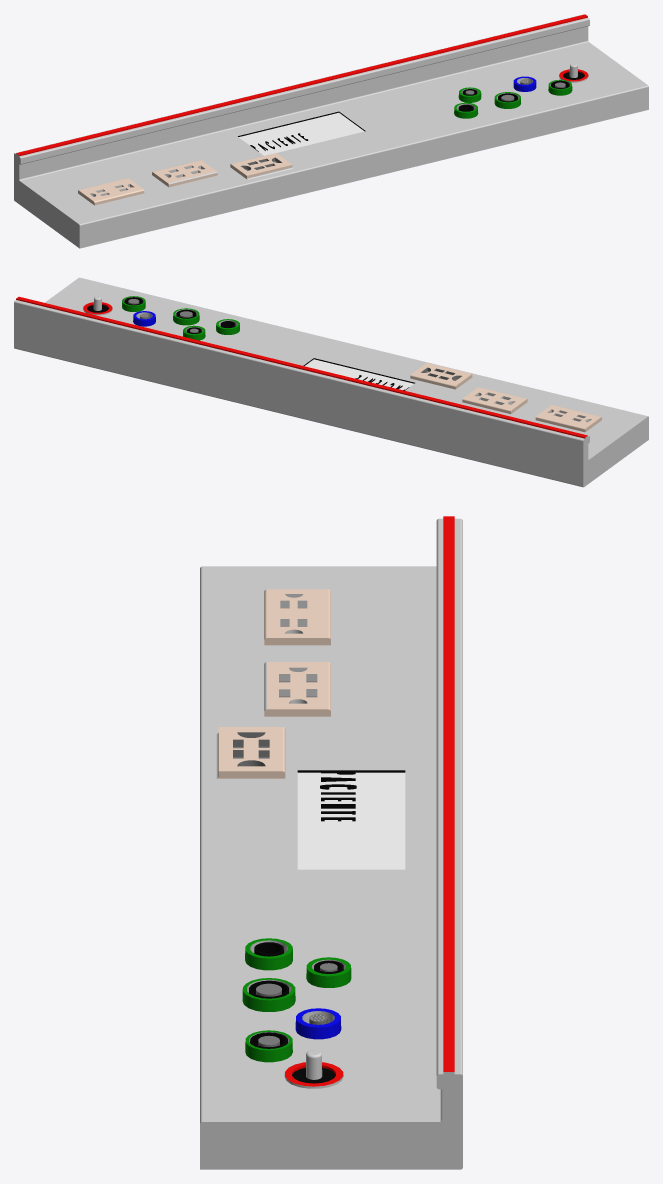
The model's file is placa.fbx.
3 views of the same model, one above another, from view 1: azimuth 30°, elevation 25°; view 2: azimuth 150°, elevation 25°; view 3: azimuth 270°, elevation 25° (orthographic). The views are drawn at different scales.
Parts seen in each view (by area): view 1: Boss-Extrude13; view 2: Boss-Extrude13; view 3: Boss-Extrude13.
Part boxes in pixels (box(x1,y1,x2,y2)): Boss-Extrude13: box(14, 14, 648, 248); Boss-Extrude13: box(14, 277, 648, 487); Boss-Extrude13: box(200, 516, 462, 1169).
Bounding box in the file's own units: 1.97 × 0.1614 × 0.3937.
